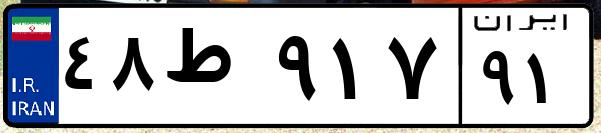1: (330, 28, 385, 110), (525, 38, 570, 115)
4: (57, 26, 110, 100)
7: (385, 28, 445, 110)
8: (110, 28, 158, 98)
9: (270, 28, 330, 110), (475, 38, 525, 113)
ط: (158, 20, 270, 120)
